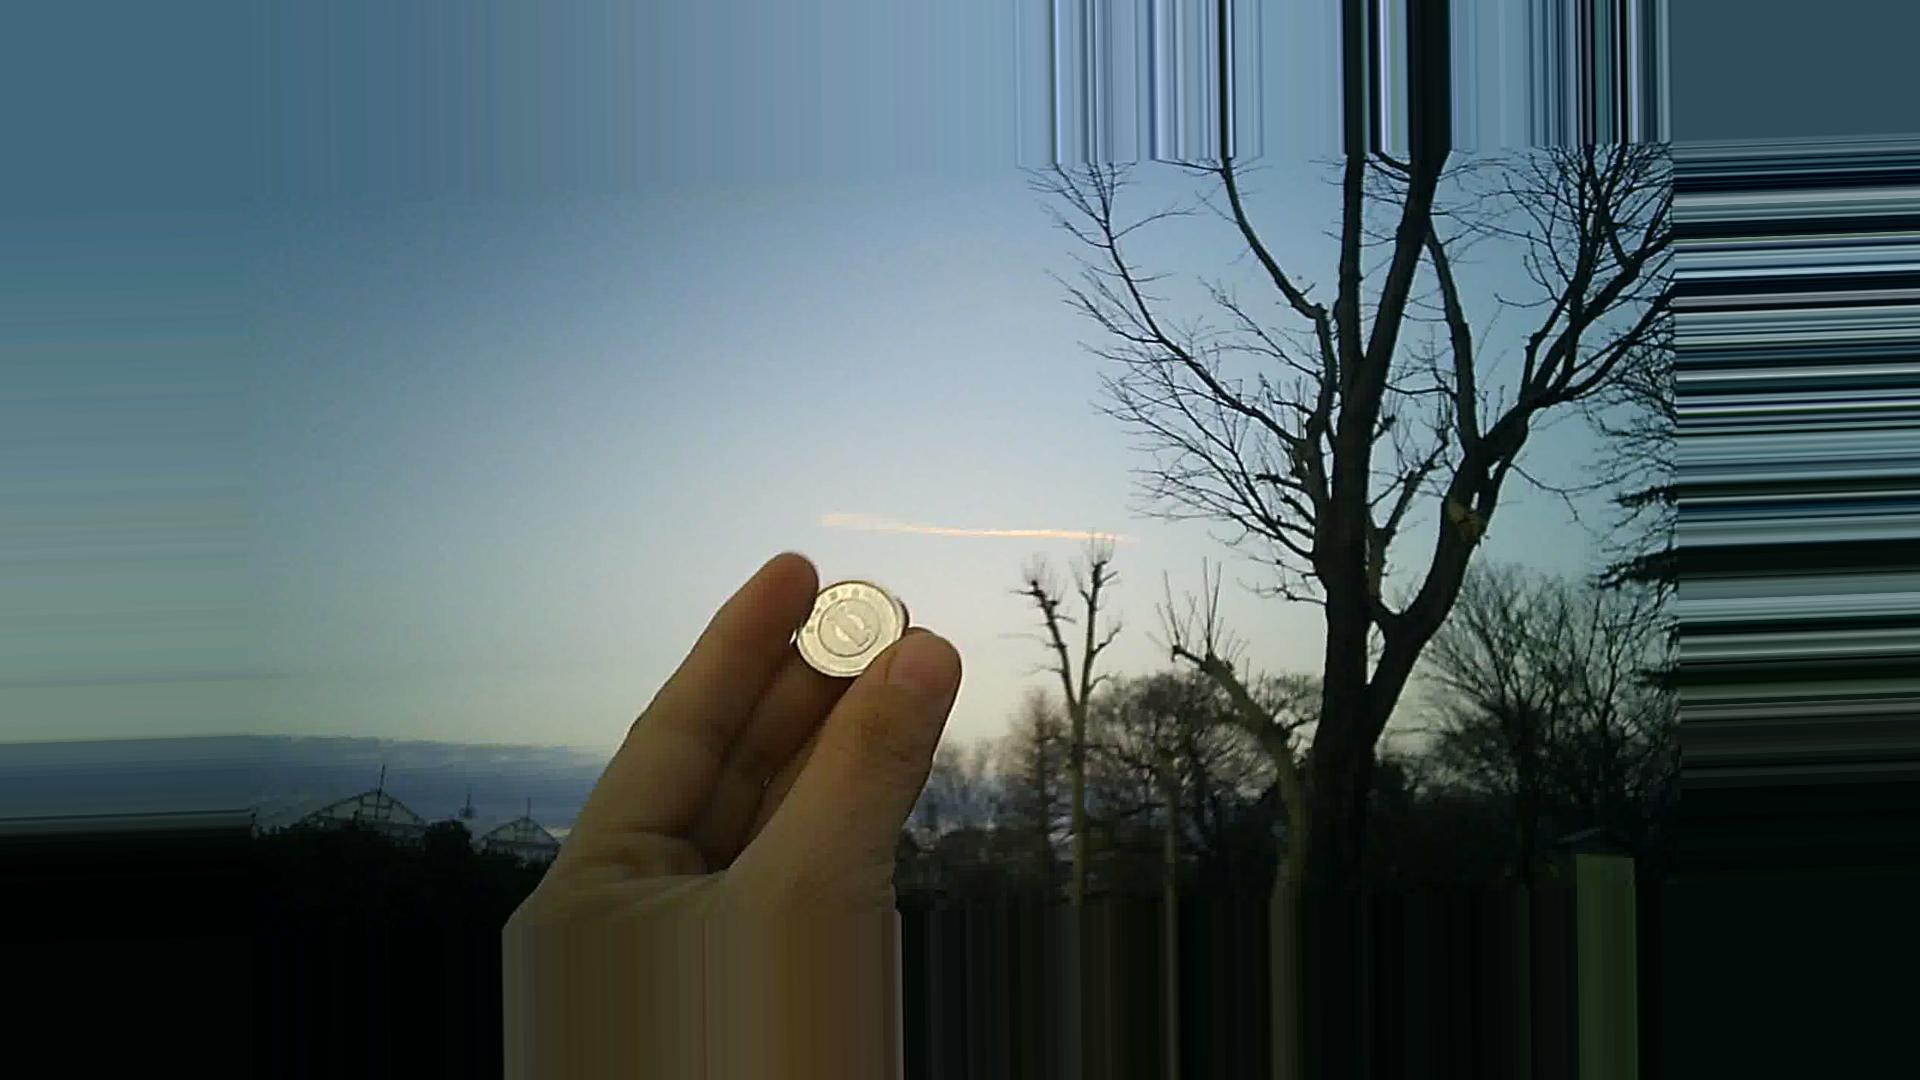1 Yen: (789, 563, 909, 692)
